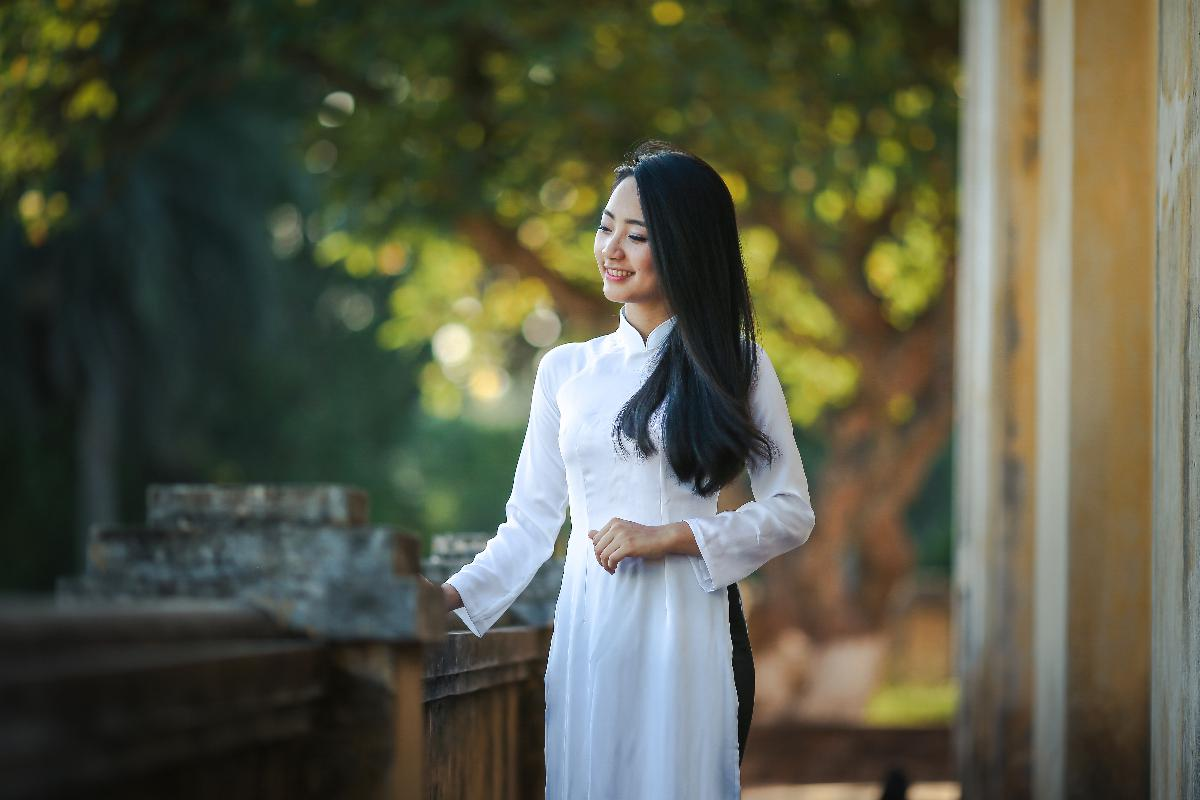Person: (441, 148, 821, 800)
